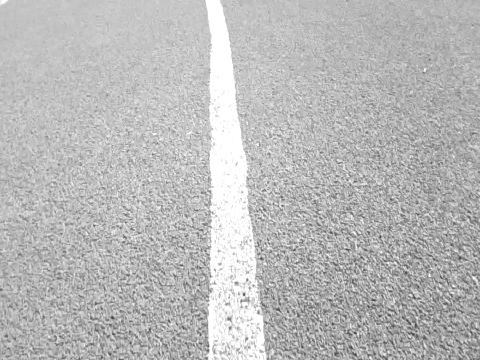Lines: (206, 0, 269, 360)
